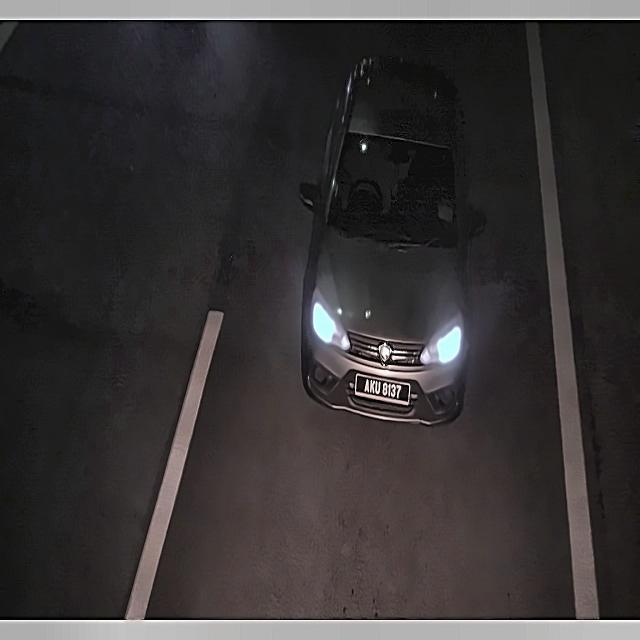car: (354, 366, 414, 409)
